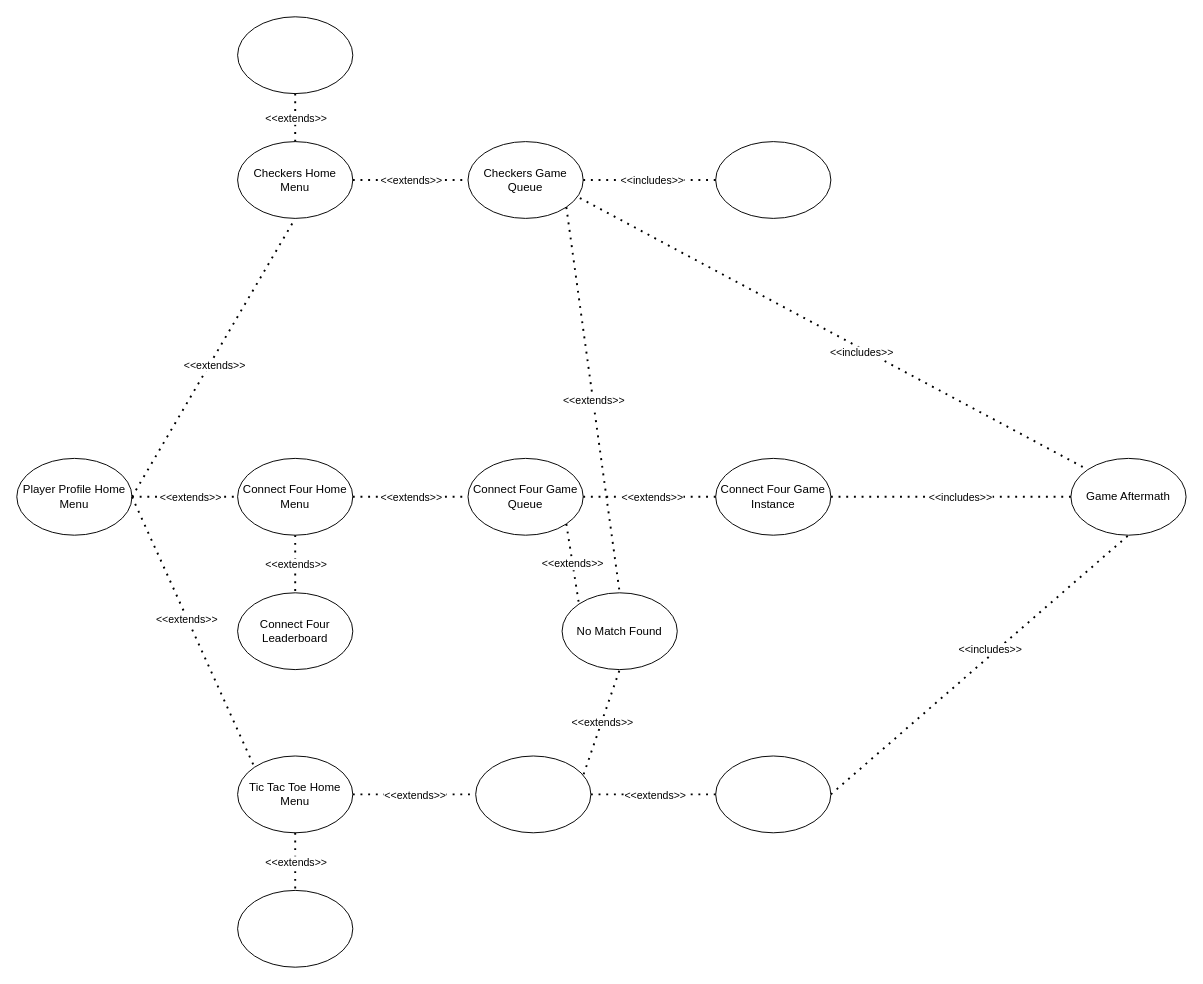
The diagram is 1203 pixels wide and 984 high, and some of its shapes have lost their labels. Each missing label, with the box of its shape:
Checkers Game Instance: (715, 141, 831, 218)
Checkers Leaderboard: (237, 16, 353, 94)
Tic Tac Toe Game Instance: (715, 755, 831, 833)
Tic Tac Toe Game Queue: (475, 755, 591, 833)
Tic Tac Toe Leaderboard: (237, 889, 353, 967)
